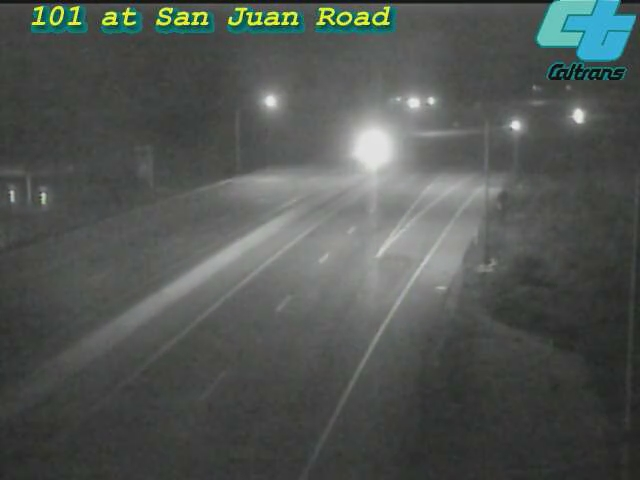vehicle: (345, 123, 395, 173), (492, 99, 542, 149), (553, 91, 603, 141)
